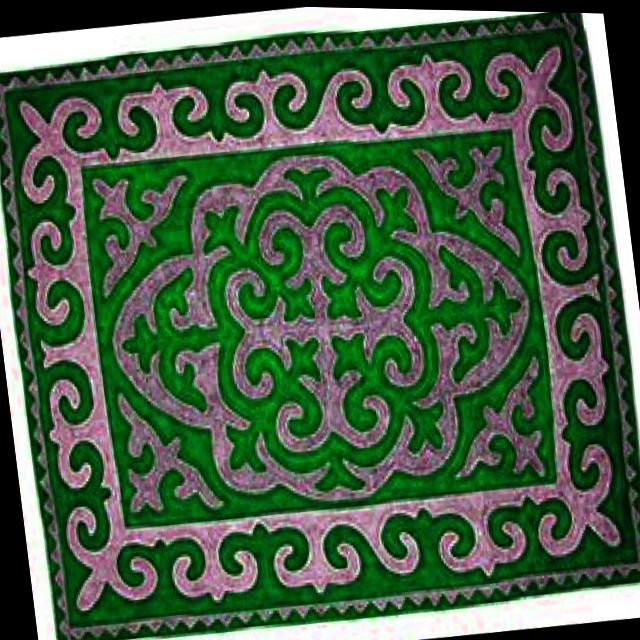Unity: (191, 155, 451, 504)
